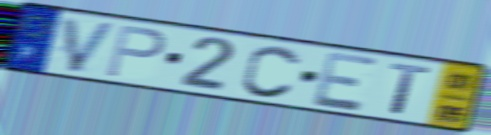2: (178, 35, 239, 94)
C: (240, 43, 305, 100)
E: (311, 49, 382, 114)
P: (103, 22, 168, 80)
T: (387, 61, 434, 117)
V: (61, 14, 121, 75)
